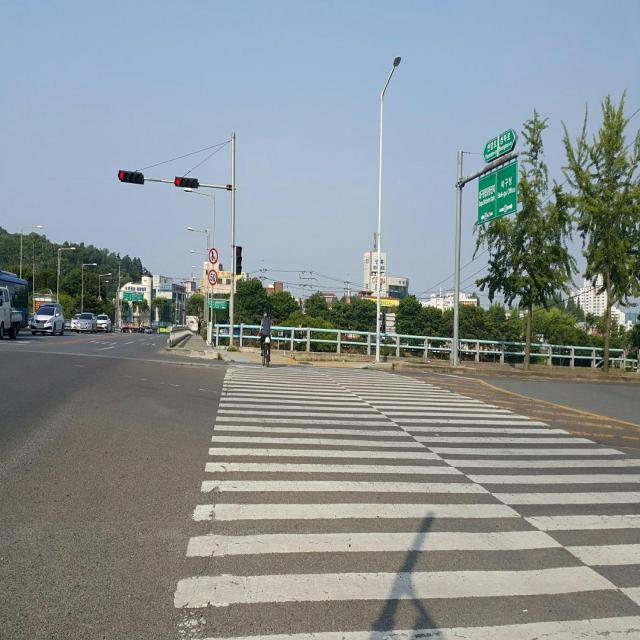빨간불: (234, 240, 244, 277)
횡단보도: (174, 364, 640, 640)
